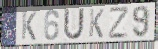6: (43, 9, 60, 41)
9: (131, 5, 151, 40)
K: (21, 10, 38, 42), (88, 8, 105, 39)
U: (62, 7, 86, 42)
Z: (108, 6, 130, 40)
